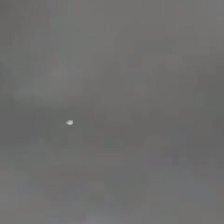Target: (66, 120, 73, 125)
